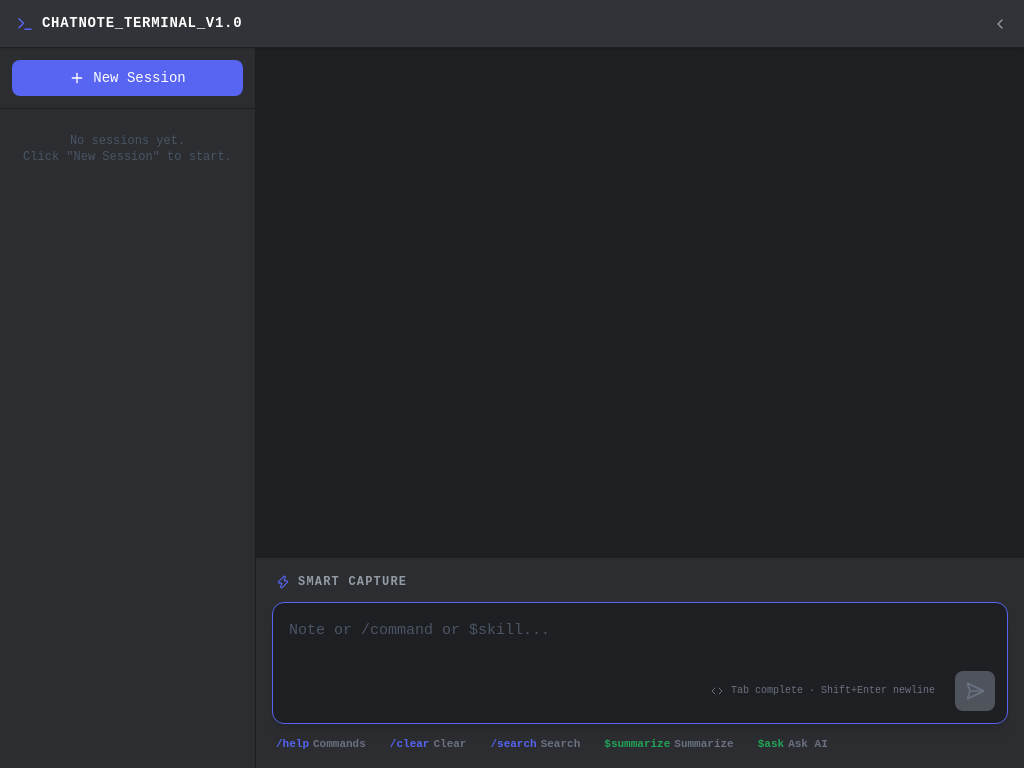
Test: context loading › processes context_loaded response and renders message in UI
The image size is (1024, 768).
In the text box with placeholder "Note or /command or $skill...": (640, 658) top-left (273, 602), bottom-right (1007, 714), type "@TestServer #general"
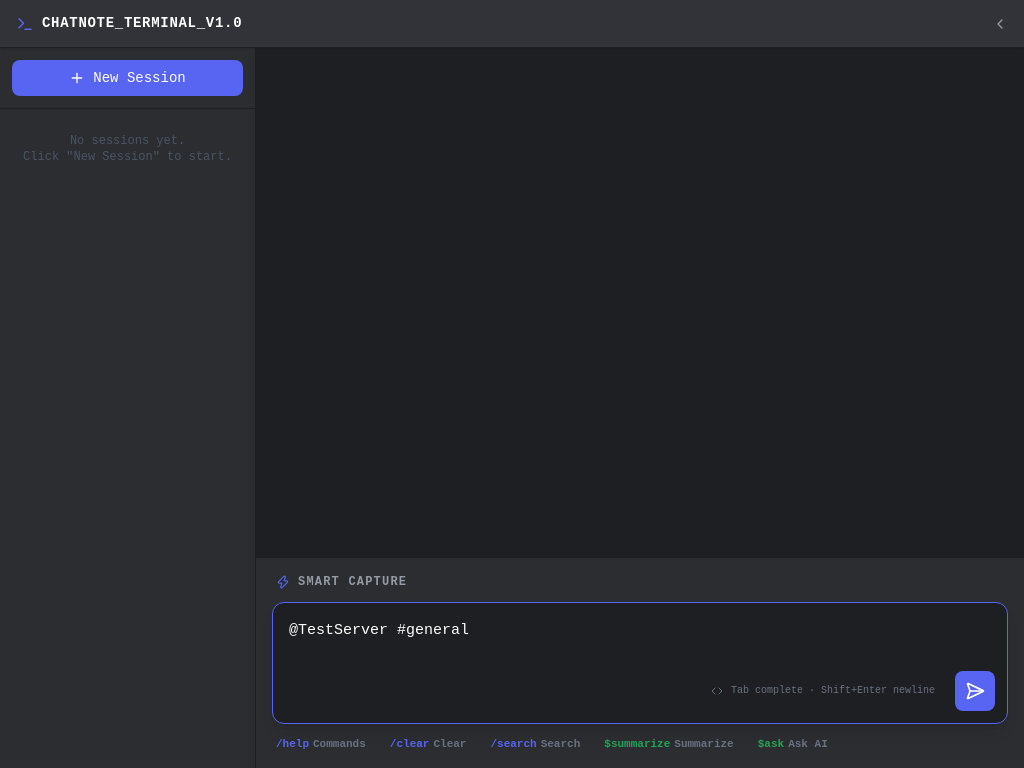
Click the 3rd button: (975, 690) top-left (955, 670), bottom-right (995, 710)
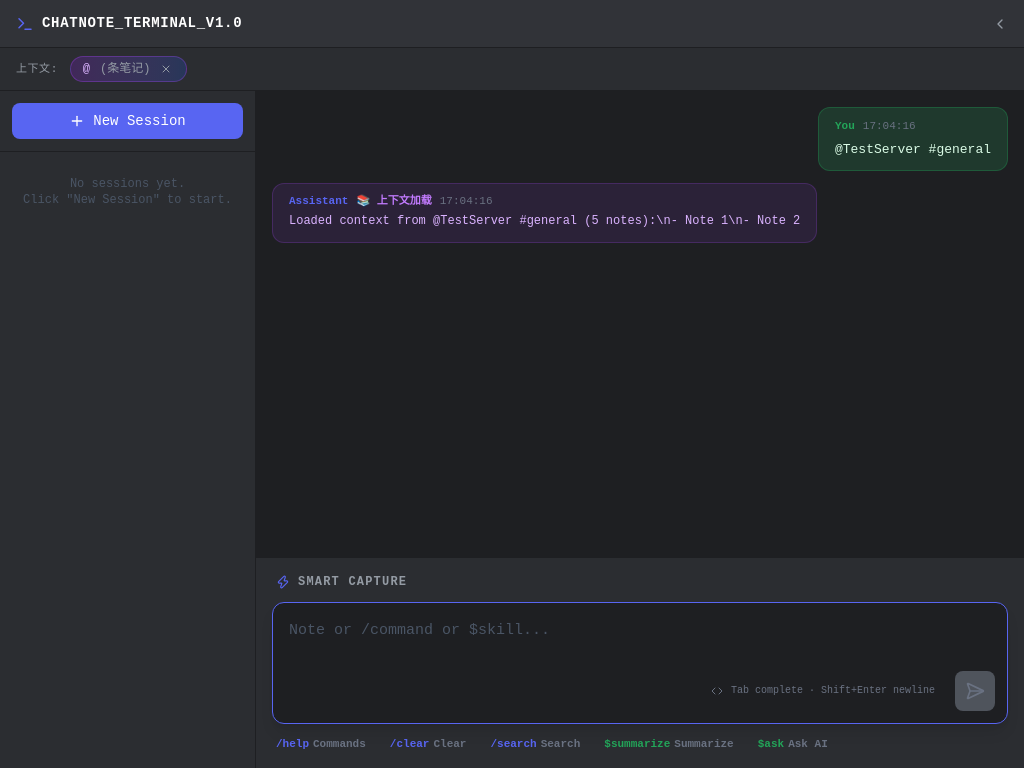
Expected: the text "Loaded context from @TestServer" is shown, top-left (289, 214), bottom-right (800, 228)
